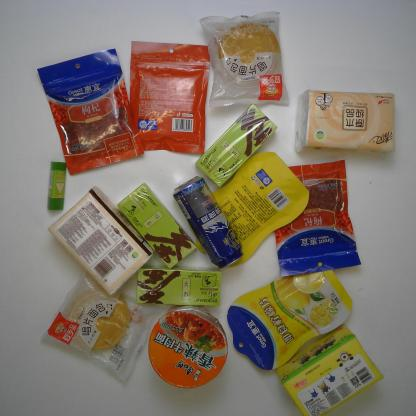Alcohol: (172, 175, 244, 271)
Dessert: (41, 266, 157, 386), (200, 9, 292, 109)
Dried Fruit: (184, 150, 312, 270), (226, 258, 355, 370), (35, 47, 145, 176), (269, 158, 363, 278), (126, 40, 214, 156)
Instant Drink: (194, 102, 280, 190), (116, 182, 197, 269), (133, 265, 223, 308)
Instant Noodles: (146, 299, 231, 389)
Stationery: (43, 156, 69, 211)
Tissue: (47, 184, 155, 298), (275, 322, 384, 416), (291, 89, 399, 156)
